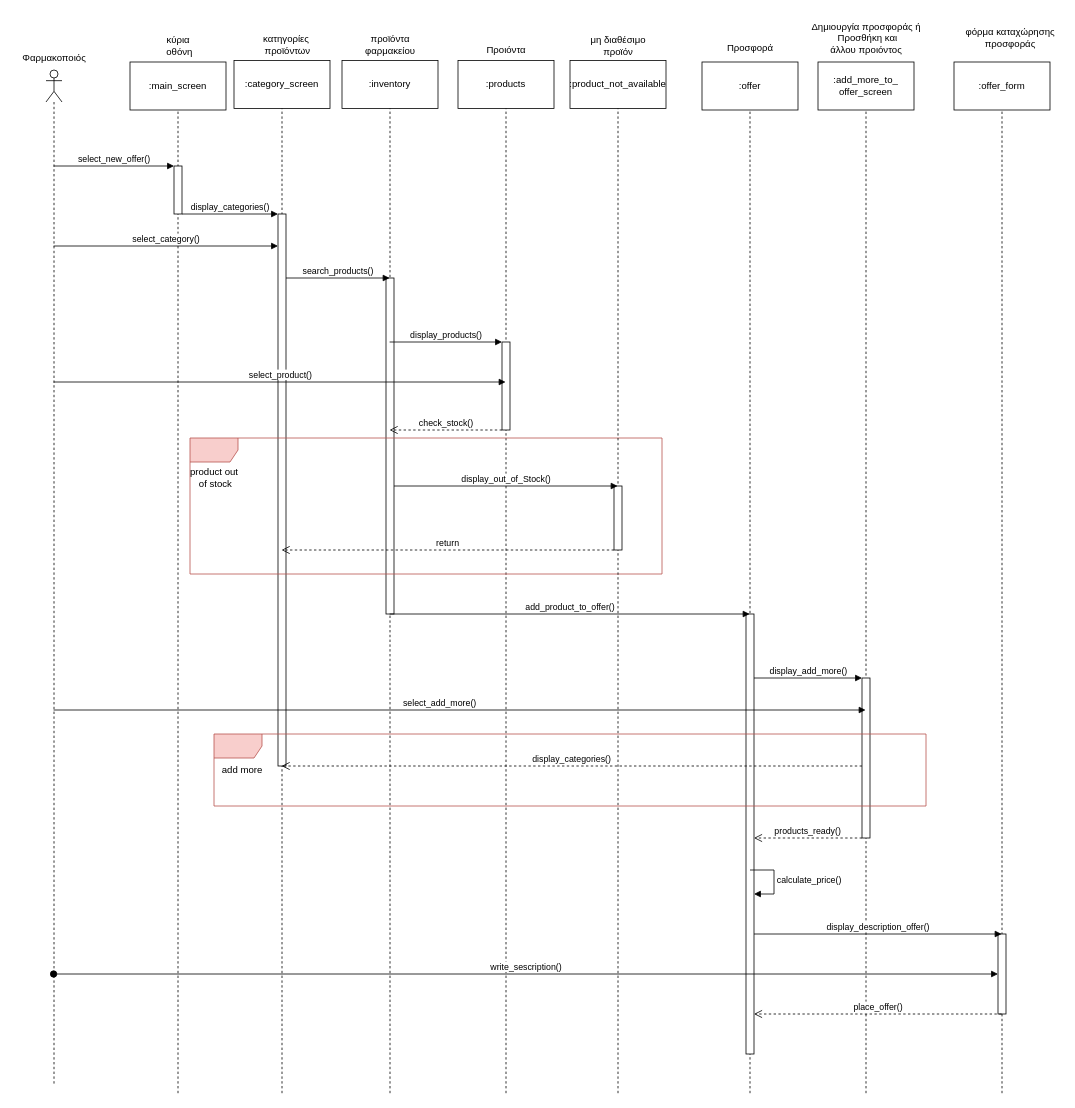
This 1075x1108 diagram has some shape labels left out. The shapes that lost their labels are listed below. From the top down, each one's box as (x1, y1, x2, y2) in pixels, then its label:
(189, 437, 662, 574): alternative
(213, 733, 926, 806): frame
